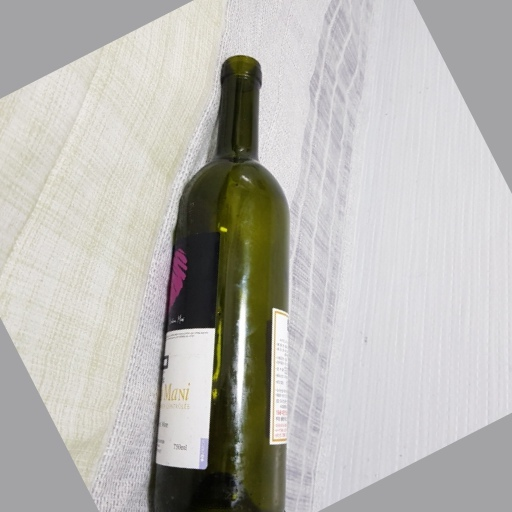Glass_2: (146, 53, 296, 512)
